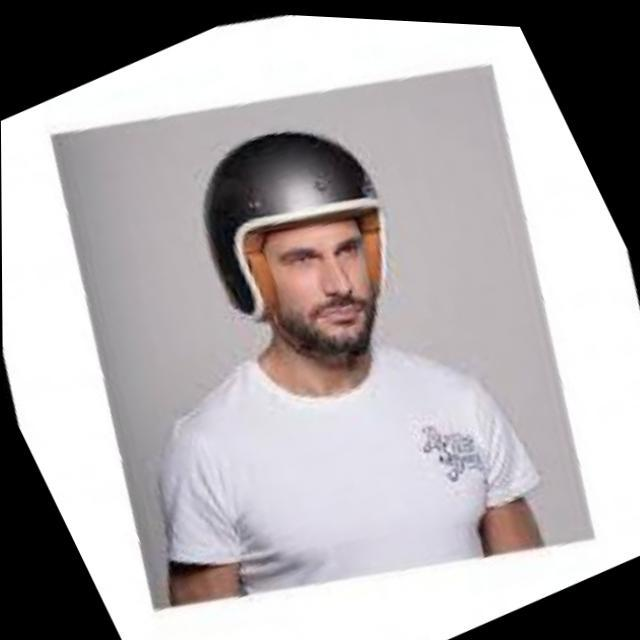Helmet: (196, 119, 408, 382)
